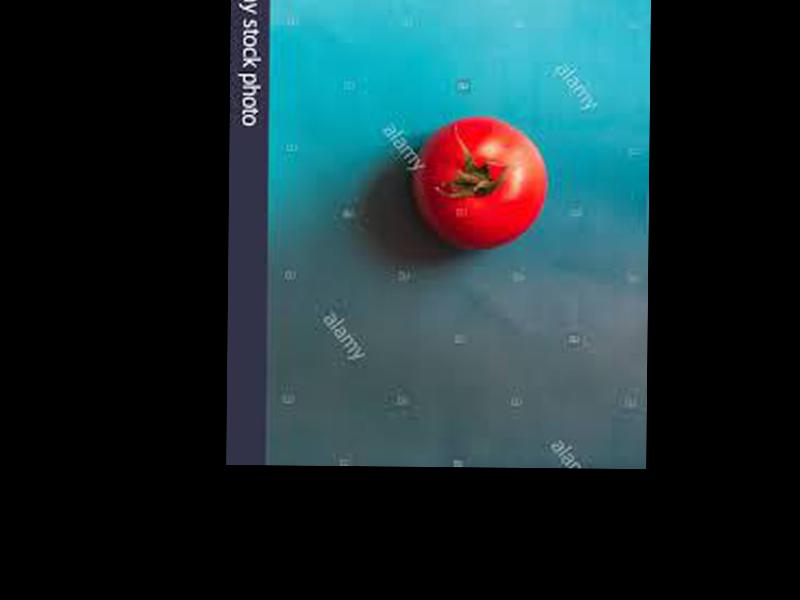Tomato: (411, 116, 548, 248)
